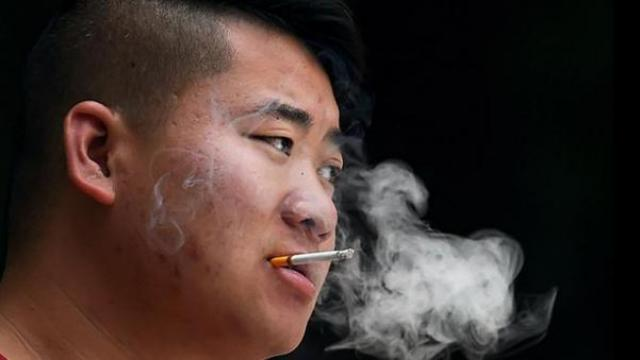SafeDriving: (237, 114, 303, 162), (308, 142, 352, 188)
Smoking: (261, 246, 361, 270)
